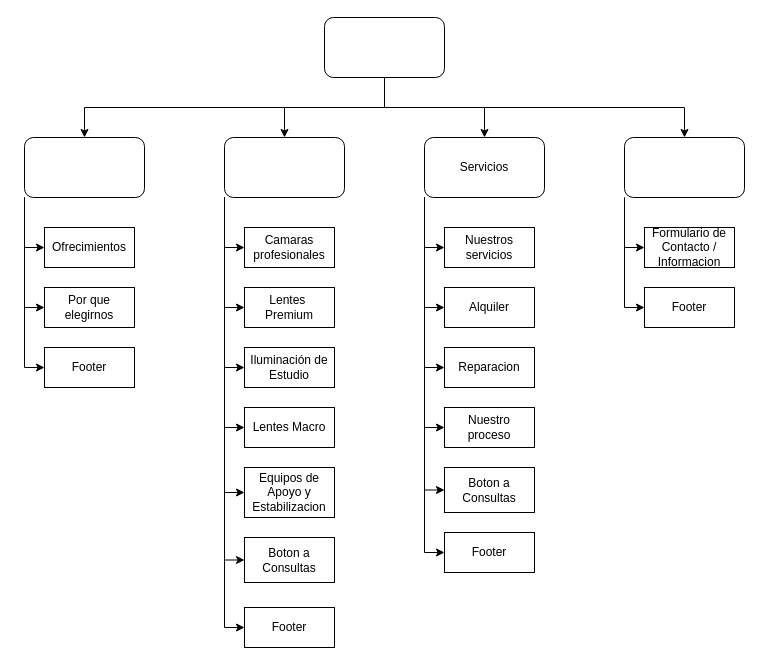
Some shapes in this 762 by 665 pixel diagram are drawn without their labels. The box of each missing label's shape, as (x1, y1, x2, y2) in pixels:
Contactanos: (624, 136, 744, 198)
Home: (324, 16, 444, 78)
Inicio: (24, 136, 144, 198)
Tienda: (224, 136, 344, 198)
